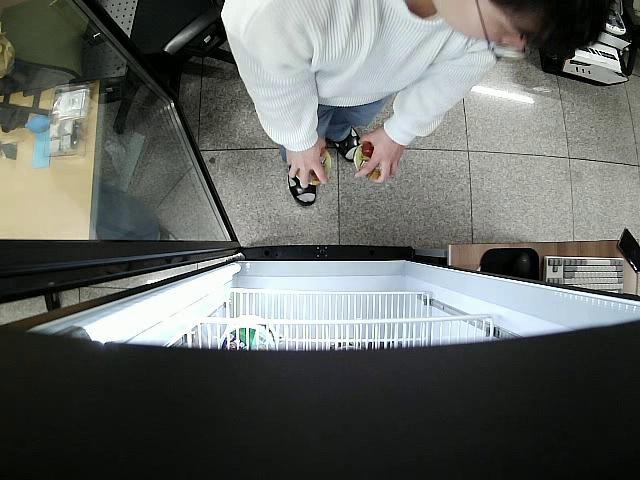04_chapagetti_S: (296, 150, 332, 184), (355, 144, 382, 182)
